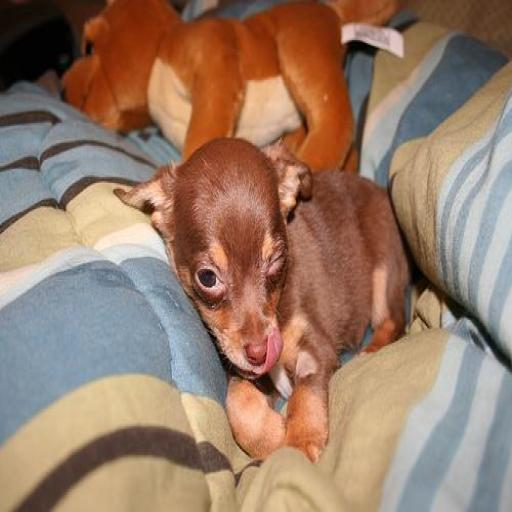dog_face: (138, 135, 298, 383)
